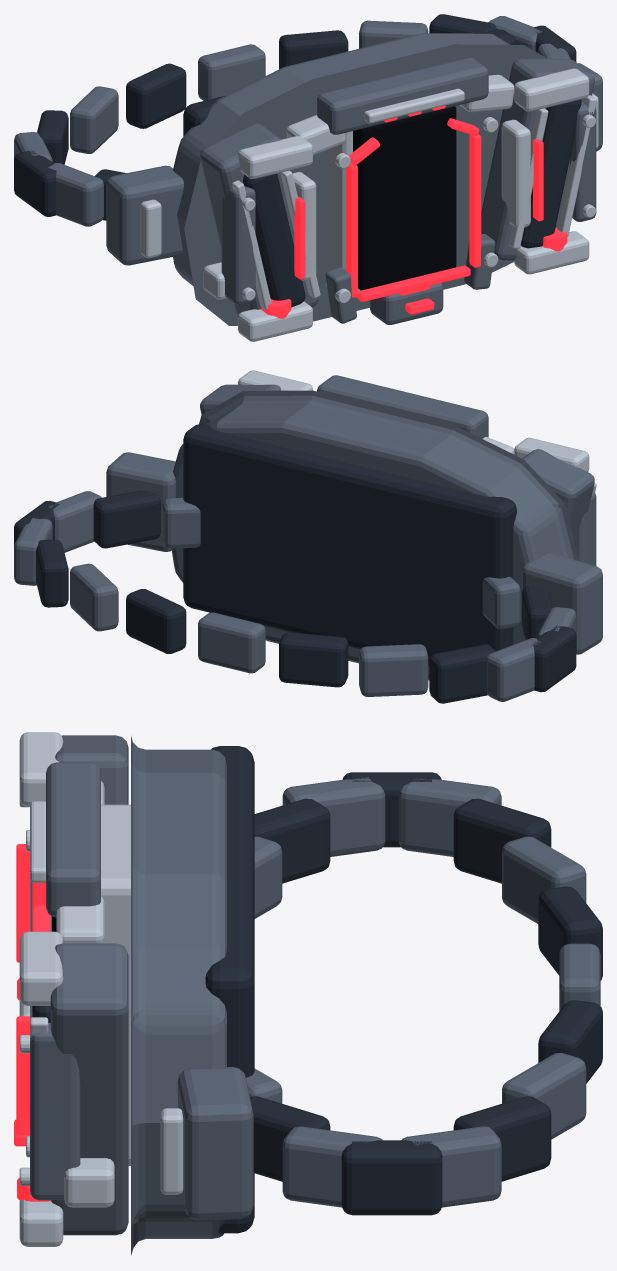
Rendered from belt.glb.
3 views of the same model, one above another, from view 1: azimuth 30°, elevation 25°; view 2: azimuth 150°, elevation 25°; view 3: azimuth 270°, elevation 25° (orthographic). The views are drawn at different scales.
Visible parts, largest first — view 1: Driver_MainChassis, MainCardSlot_Void, V4_TopArmor, V4_BeltBridge_Left, RightRodDock_Chassis, LeftRodDock_Recess, RightRodDock_Recess, LeftRodDock_Chassis, V4_LeftDockOuterArmor, BeltSegment_20, BeltSegment_01, V4_RightDockInnerArmor (+36 smaller); view 2: Driver_Backplate, Driver_MainChassis, V4_BeltBridge_Left, V4_TopArmor, BeltSegment_19, BeltSegment_20, BeltSegment_01, BeltSegment_08, BeltSegment_02, V4_BeltBridge_Right, BeltSegment_18, LeftRodDock_Chassis (+15 smaller); view 3: Driver_MainChassis, RightRodDock_Chassis, V4_BeltBridge_Right, Driver_Backplate, V4_TopArmor, BeltSegment_06, V4_RightDockOuterArmor, BeltSegment_18, BeltSegment_15, BeltSegment_17, BeltSegment_05, BeltSegment_07 (+22 smaller).
Boxes of the visible parts, left/top/right/bottom form: Driver_MainChassis: left=173, top=33, right=547, bottom=325; MainCardSlot_Void: left=353, top=106, right=456, bottom=290; V4_TopArmor: left=317, top=57, right=488, bottom=134; V4_BeltBridge_Left: left=106, top=165, right=183, bottom=265; RightRodDock_Chassis: left=481, top=59, right=594, bottom=260; LeftRodDock_Recess: left=243, top=173, right=305, bottom=307; RightRodDock_Recess: left=521, top=99, right=581, bottom=248; LeftRodDock_Chassis: left=200, top=123, right=318, bottom=314; V4_LeftDockOuterArmor: left=221, top=186, right=255, bottom=304; BeltSegment_20: left=126, top=63, right=186, bottom=128; BeltSegment_01: left=198, top=44, right=265, bottom=100; V4_RightDockInnerArmor: left=501, top=119, right=530, bottom=227; Driver_Backplate: left=183, top=424, right=516, bottom=665; Driver_MainChassis: left=171, top=390, right=579, bottom=680; V4_BeltBridge_Left: left=522, top=552, right=602, bottom=654; V4_TopArmor: left=317, top=375, right=488, bottom=438; BeltSegment_19: left=359, top=644, right=428, bottom=696; BeltSegment_20: left=279, top=632, right=348, bottom=687; BeltSegment_01: left=198, top=612, right=265, bottom=673; BeltSegment_08: left=93, top=490, right=160, bottom=548; BeltSegment_02: left=126, top=589, right=186, bottom=653; V4_BeltBridge_Right: left=106, top=452, right=175, bottom=551; BeltSegment_18: left=429, top=644, right=495, bottom=703; LeftRodDock_Chassis: left=522, top=449, right=594, bottom=542; Driver_MainChassis: left=131, top=736, right=226, bottom=1255; RightRodDock_Chassis: left=50, top=943, right=128, bottom=1235; V4_BeltBridge_Right: left=177, top=1067, right=253, bottom=1220; Driver_Backplate: left=205, top=746, right=254, bottom=1233; V4_TopArmor: left=46, top=762, right=100, bottom=917; BeltSegment_06: left=341, top=1140, right=442, bottom=1215; V4_RightDockOuterArmor: left=30, top=1023, right=80, bottom=1200; BeltSegment_18: left=453, top=798, right=551, bottom=883; BeltSegment_15: left=282, top=777, right=385, bottom=856; BeltSegment_17: left=398, top=777, right=501, bottom=856; BeltSegment_05: left=401, top=1126, right=501, bottom=1207; BeltSegment_07: left=282, top=1126, right=382, bottom=1207.
Bounding box in the file's own units: 3.98 × 1.73 × 2.57.
